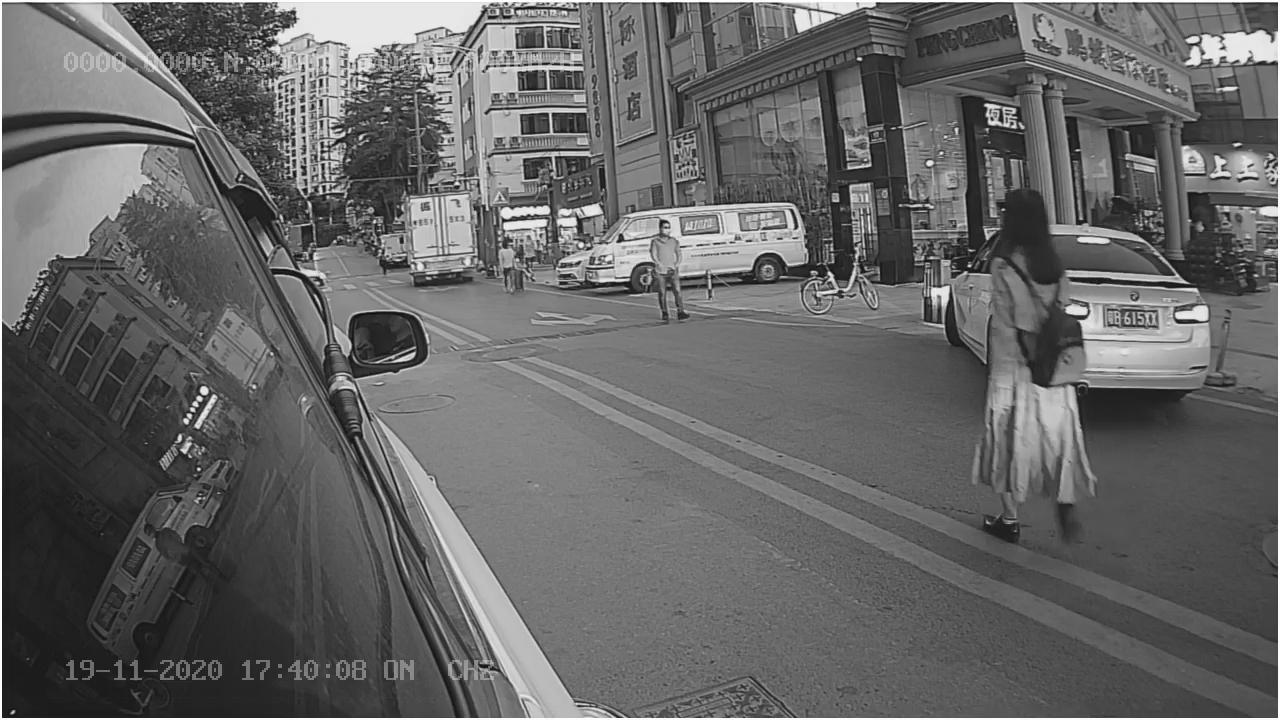person: (975, 179, 1105, 565)
